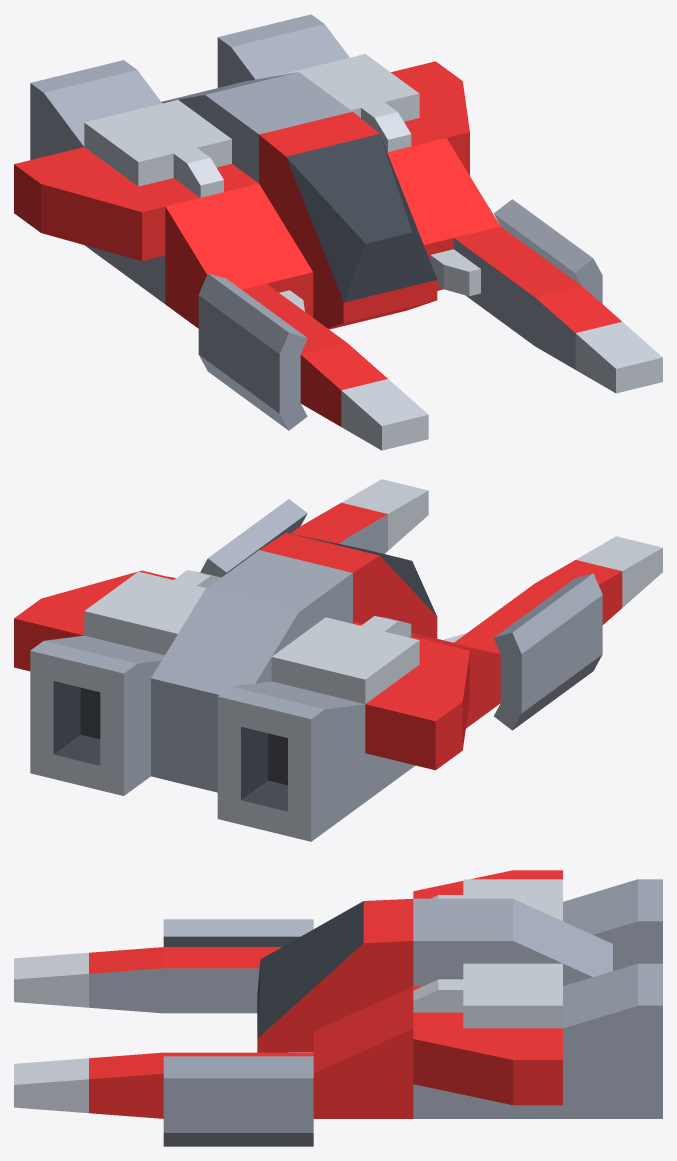
Rendered from craft_miner.fbx.
3 views of the same model, one above another, from view 1: azimuth 30°, elevation 25°; view 2: azimuth 150°, elevation 25°; view 3: azimuth 270°, elevation 25° (orthographic). The views are drawn at different scales.
Parts seen in each view (by area): view 1: mergedBlocks; view 2: mergedBlocks; view 3: mergedBlocks.
Part boxes in pixels (left/top/right/bottom): mergedBlocks: left=14, top=14, right=662, bottom=450; mergedBlocks: left=14, top=479, right=662, bottom=841; mergedBlocks: left=14, top=870, right=662, bottom=1146.
Bounding box in the file's own units: 18 × 7 × 26.
